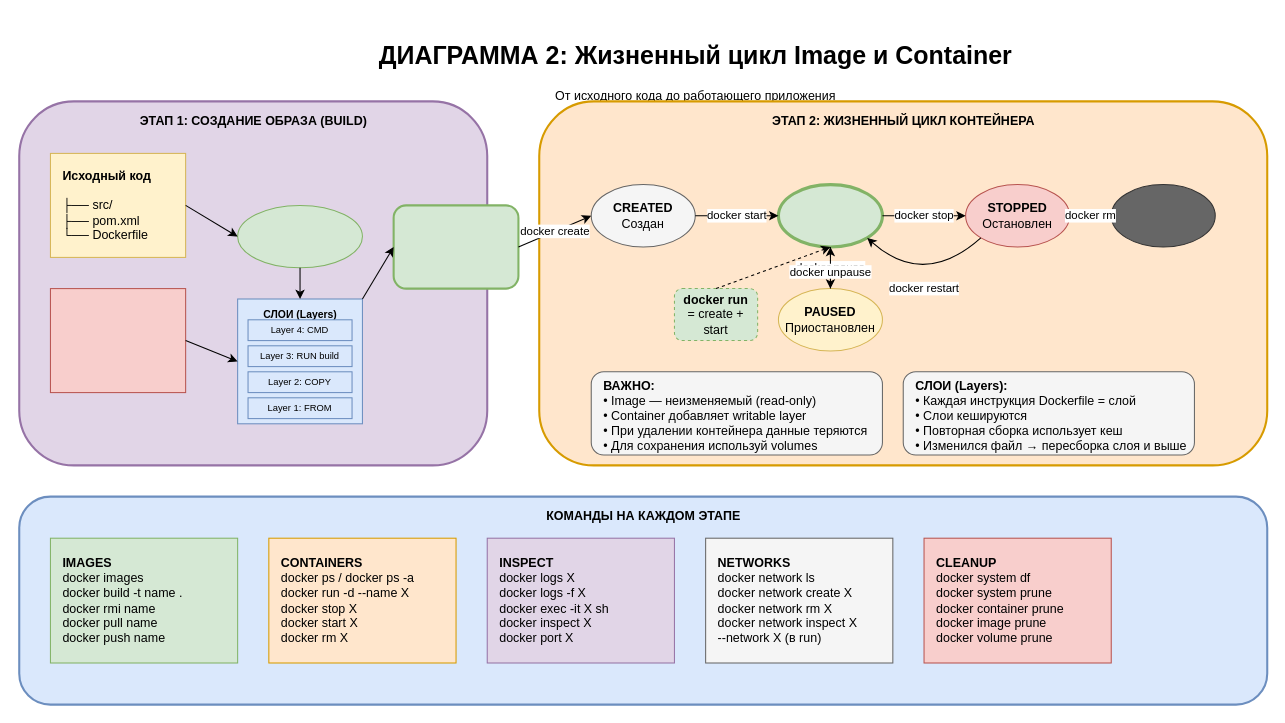
This 1285x723 diagram has some shape labels left out. Here are the shapes that lost their labels. From the top down, the centre of each, then its label:
the point at 829,215: RUNNING Работает
the point at 1162,215: REMOVED Удалён
the point at 299,236: docker build -t name:tag .
the point at 455,246: IMAGE calc-backend:local (Неизменяемый)
the point at 117,340: Dockerfile FROM maven... COPY . . RUN mvn build CMD ["java"...]
